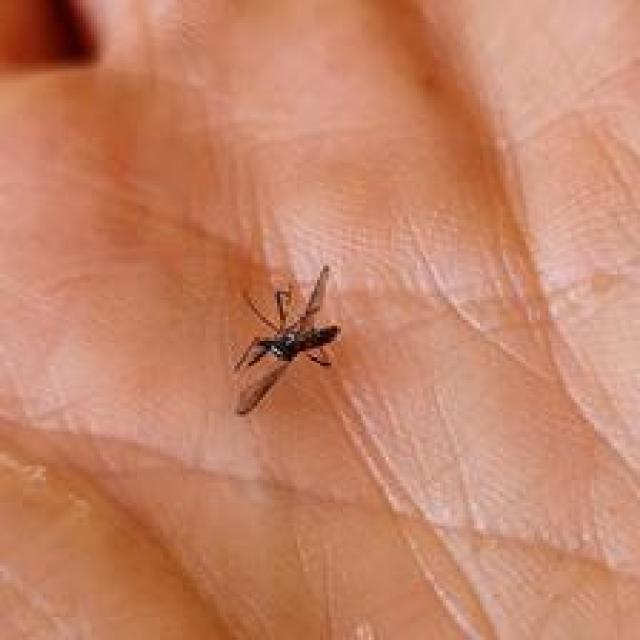Aedes albopictus: (230, 263, 341, 417)
